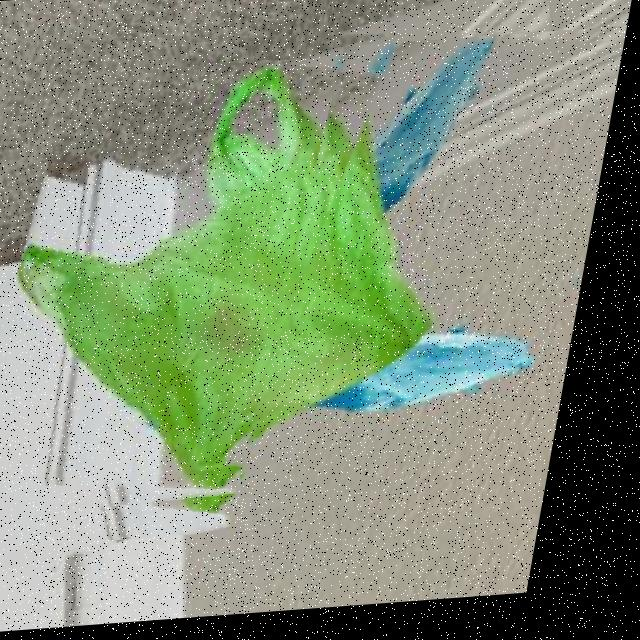litter: (0, 2, 624, 554), (0, 51, 497, 522), (252, 35, 630, 511)
